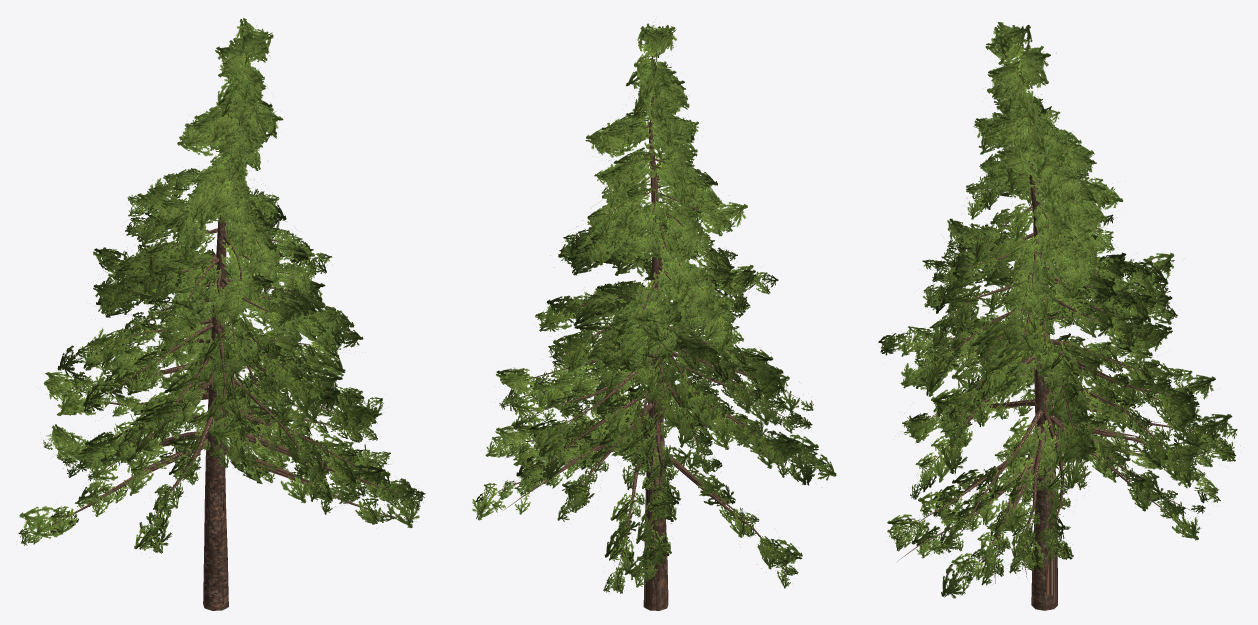
The model's file is ez-pine-medium-a.glb.
3 views of the same model, side by side, from view 1: azimuth 30°, elevation 25°; view 2: azimuth 150°, elevation 25°; view 3: azimuth 270°, elevation 25° (orthographic). The views are drawn at different scales.
Visible parts, largest first — view 1: near, mid; view 2: mid, near; view 3: mid, near.
Boxes of the visible parts, x1,y1,x2,y2 form: near: (18, 22, 425, 610); mid: (19, 18, 419, 601); mid: (472, 25, 836, 604); near: (475, 23, 832, 610); mid: (880, 22, 1235, 602); near: (878, 25, 1237, 610).
Bounding box in the file's own units: 8.2 × 13.42 × 7.57.
Materials: 1 (1 with a texture image).
